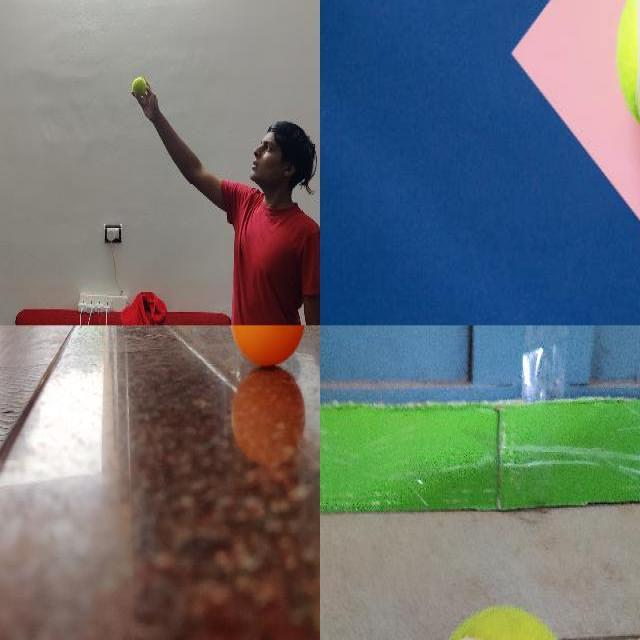tennis-ball: (132, 77, 147, 97)
